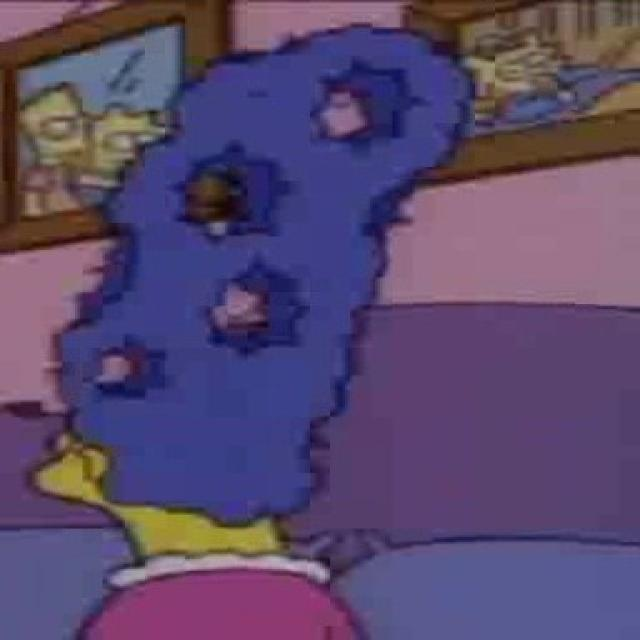Marge Simpson: (26, 26, 479, 590)
